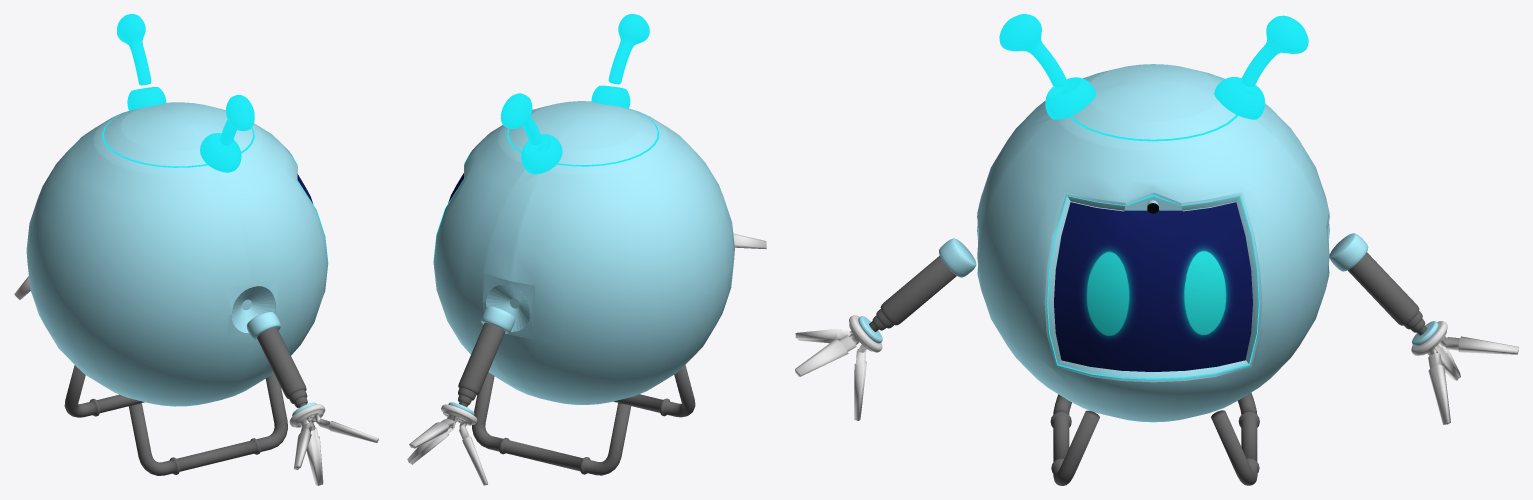
File: ohneDrehung.glb
The picture shows the model from 3 angles, left to right: view 1: azimuth 30°, elevation 25°; view 2: azimuth 150°, elevation 25°; view 3: azimuth 270°, elevation 25°; orthographic projection. The views are drawn at different scales.
Visible parts, largest first — view 1: Cylinder, Vert.001, Cylinder.006, Teleskop_Segment_1.002, Vert, Cube, Cube.001, Cylinder.005; view 2: Cylinder, Vert, Cylinder.001, Teleskop_Segment_1.001, Vert.001, Cube.001, Cube, Cylinder.002; view 3: Cylinder, Cylinder.001, Cylinder.006, Vert, Vert.001, Teleskop_Segment_1.002, Teleskop_Segment_1.001, Cube.001, Cube, Cylinder.002, Cylinder.005.
Part boxes in pixels (x1,y1,x2,y2): Cylinder: [26, 87, 328, 406]; Vert.001: [128, 373, 287, 475]; Cylinder.006: [289, 404, 378, 485]; Teleskop_Segment_1.002: [257, 327, 306, 398]; Vert: [64, 365, 144, 417]; Cube: [117, 14, 151, 85]; Cube.001: [220, 95, 254, 145]; Cylinder.005: [246, 311, 280, 340]; Cylinder: [433, 85, 734, 404]; Vert: [472, 372, 631, 475]; Cylinder.001: [407, 404, 487, 485]; Teleskop_Segment_1.001: [458, 322, 505, 395]; Vert.001: [613, 365, 695, 417]; Cube.001: [608, 14, 649, 84]; Cube: [500, 93, 541, 144]; Cylinder.002: [481, 306, 514, 333]; Cylinder: [977, 64, 1329, 422]; Cylinder.001: [1411, 321, 1518, 425]; Cylinder.006: [795, 315, 882, 420]; Vert: [1211, 392, 1259, 485]; Vert.001: [1050, 394, 1099, 485]; Teleskop_Segment_1.002: [880, 255, 956, 325]; Teleskop_Segment_1.001: [1348, 252, 1419, 325]; Cube.001: [999, 14, 1066, 87]; Cube: [1241, 15, 1308, 86]; Cylinder.002: [1329, 233, 1368, 271]; Cylinder.005: [939, 238, 976, 277].
Size of the model in its own units: 0.0584 by 0.082 by 0.1211.
18 materials, 1 textured.
